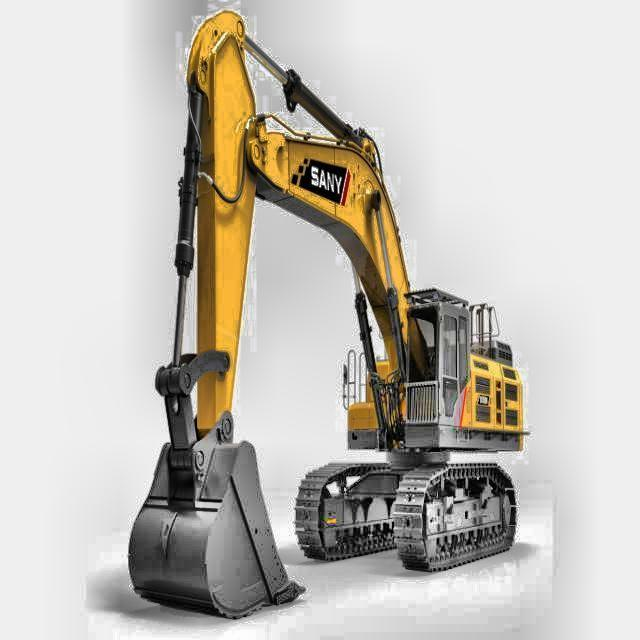excavator: (126, 6, 534, 619)
